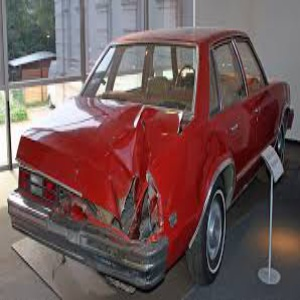bonnet: (39, 105, 183, 215)
